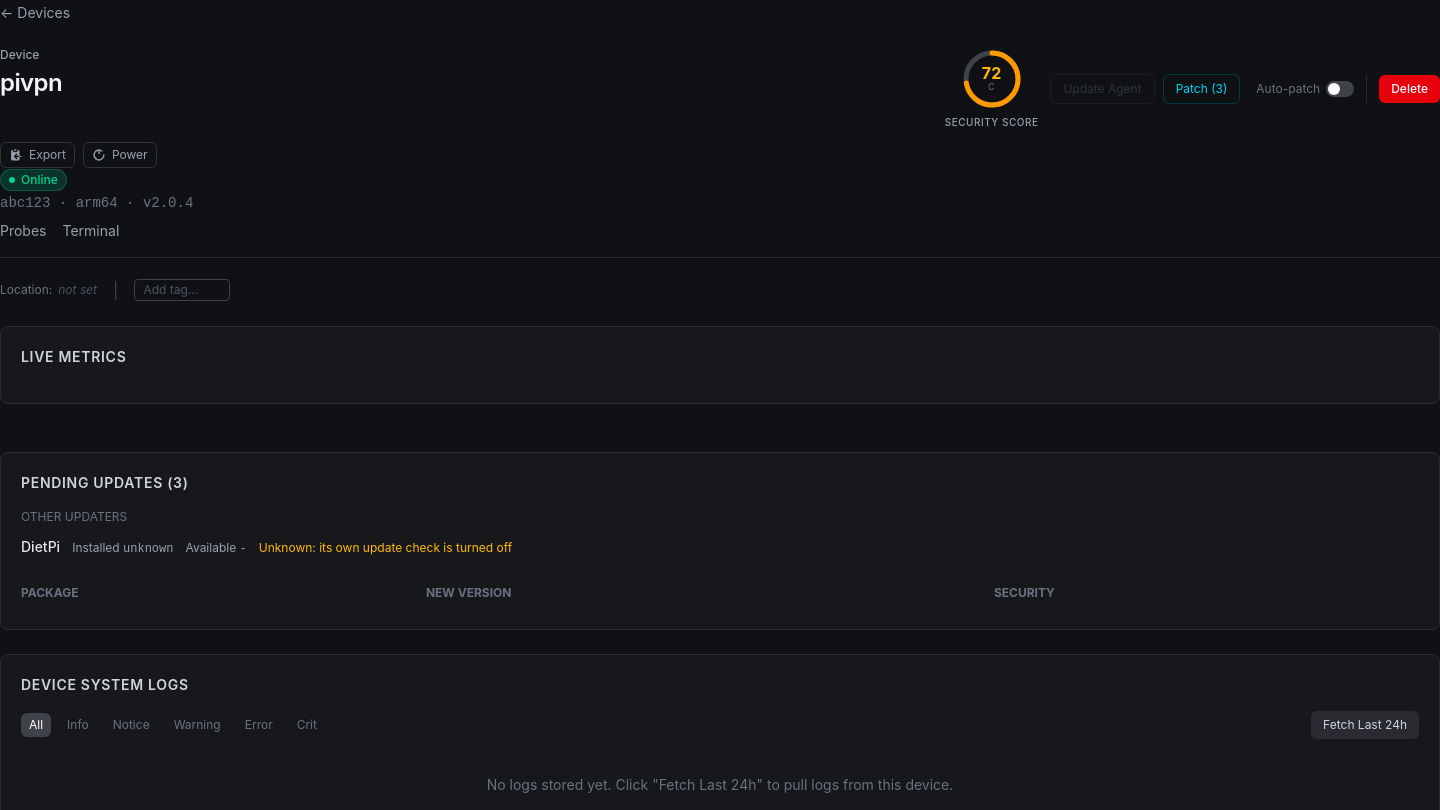
[EXTRA-UPD-001 AC-040] confirm dialog disclosure and exclusion › says DietPi will not be applied when its status is unknown
This screenshot has width=1440, height=810.
Check: the heading "pivpn" is shown, box x1=0 y1=68 x2=62 y2=97
Click the button "Patch (3)": coordinates (1201, 88) x1=1163 y1=74 x2=1240 y2=104
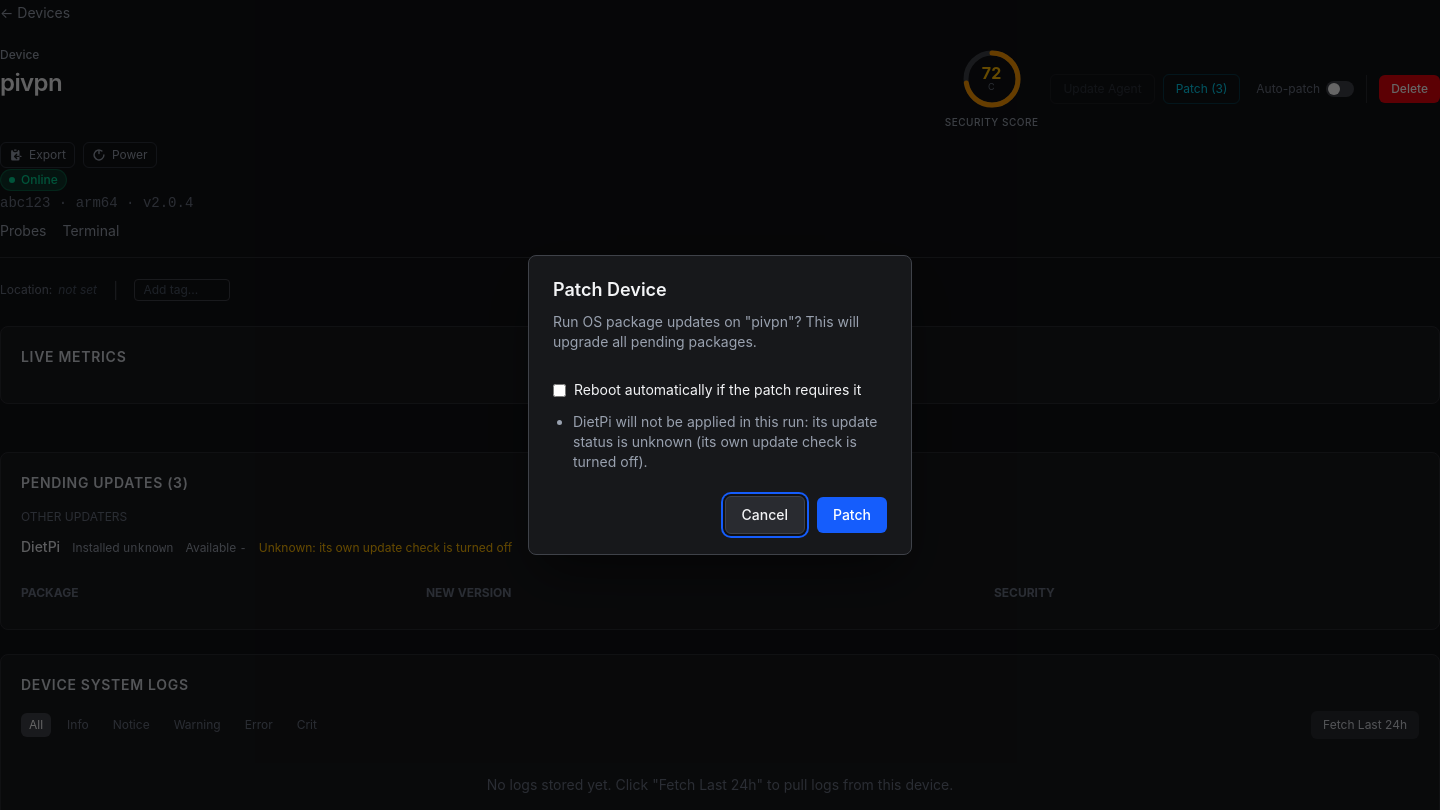
Check: the dialog shows "DietPi will not be applied in this run: its update status is unknown", box x1=573 y1=413 x2=877 y2=470
